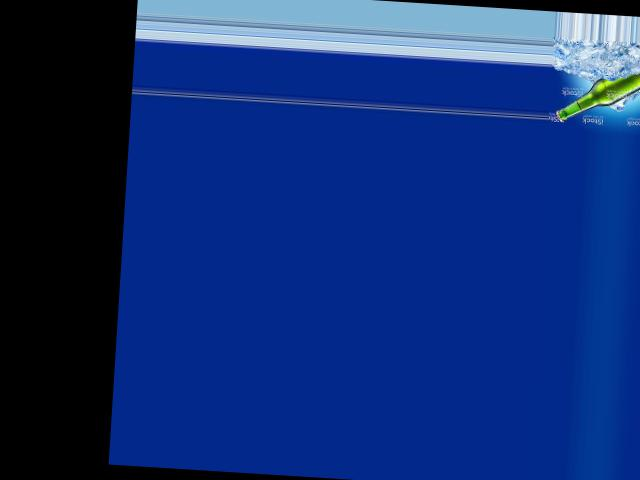beer: (554, 59, 640, 128)
